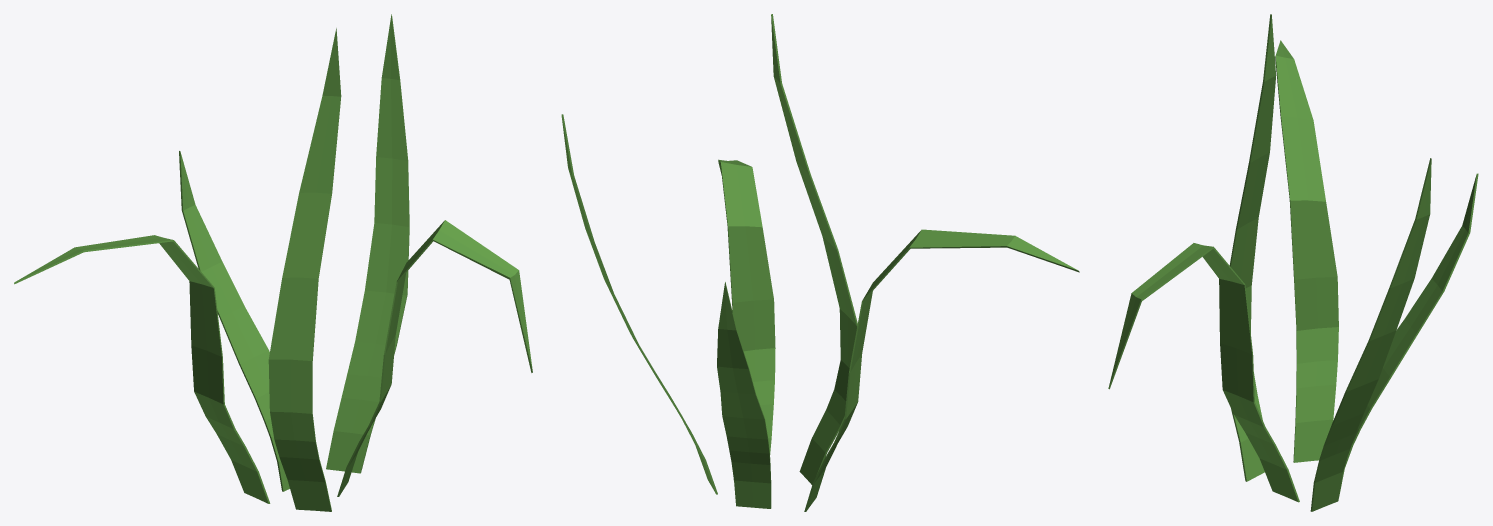
File: seaGrass.glb
3 renders of one model, left to right at view 1: azimuth 30°, elevation 25°; view 2: azimuth 150°, elevation 25°; view 3: azimuth 270°, elevation 25°, orthographic. The views are drawn at different scales.
Parts seen in each view (by area): view 1: Plane.004; view 2: Plane.004; view 3: Plane.004.
Part boxes in pixels (x1,y1,x2,y2): Plane.004: (14, 14, 532, 511); Plane.004: (561, 14, 1079, 511); Plane.004: (1108, 14, 1478, 511).
Size of the model in its own units: 5.53 by 5.56 by 3.87.
